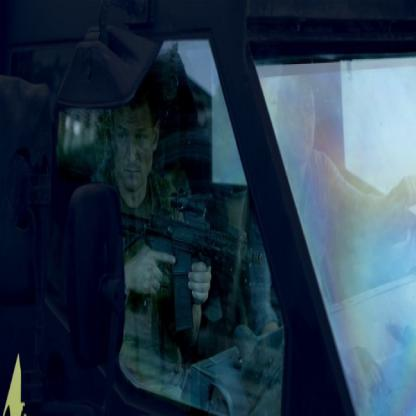Guns: (112, 193, 265, 340)
